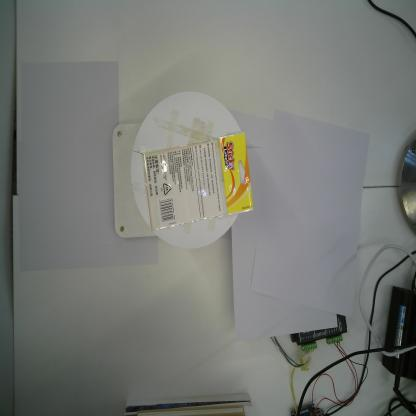Stationery: (142, 129, 256, 232)
